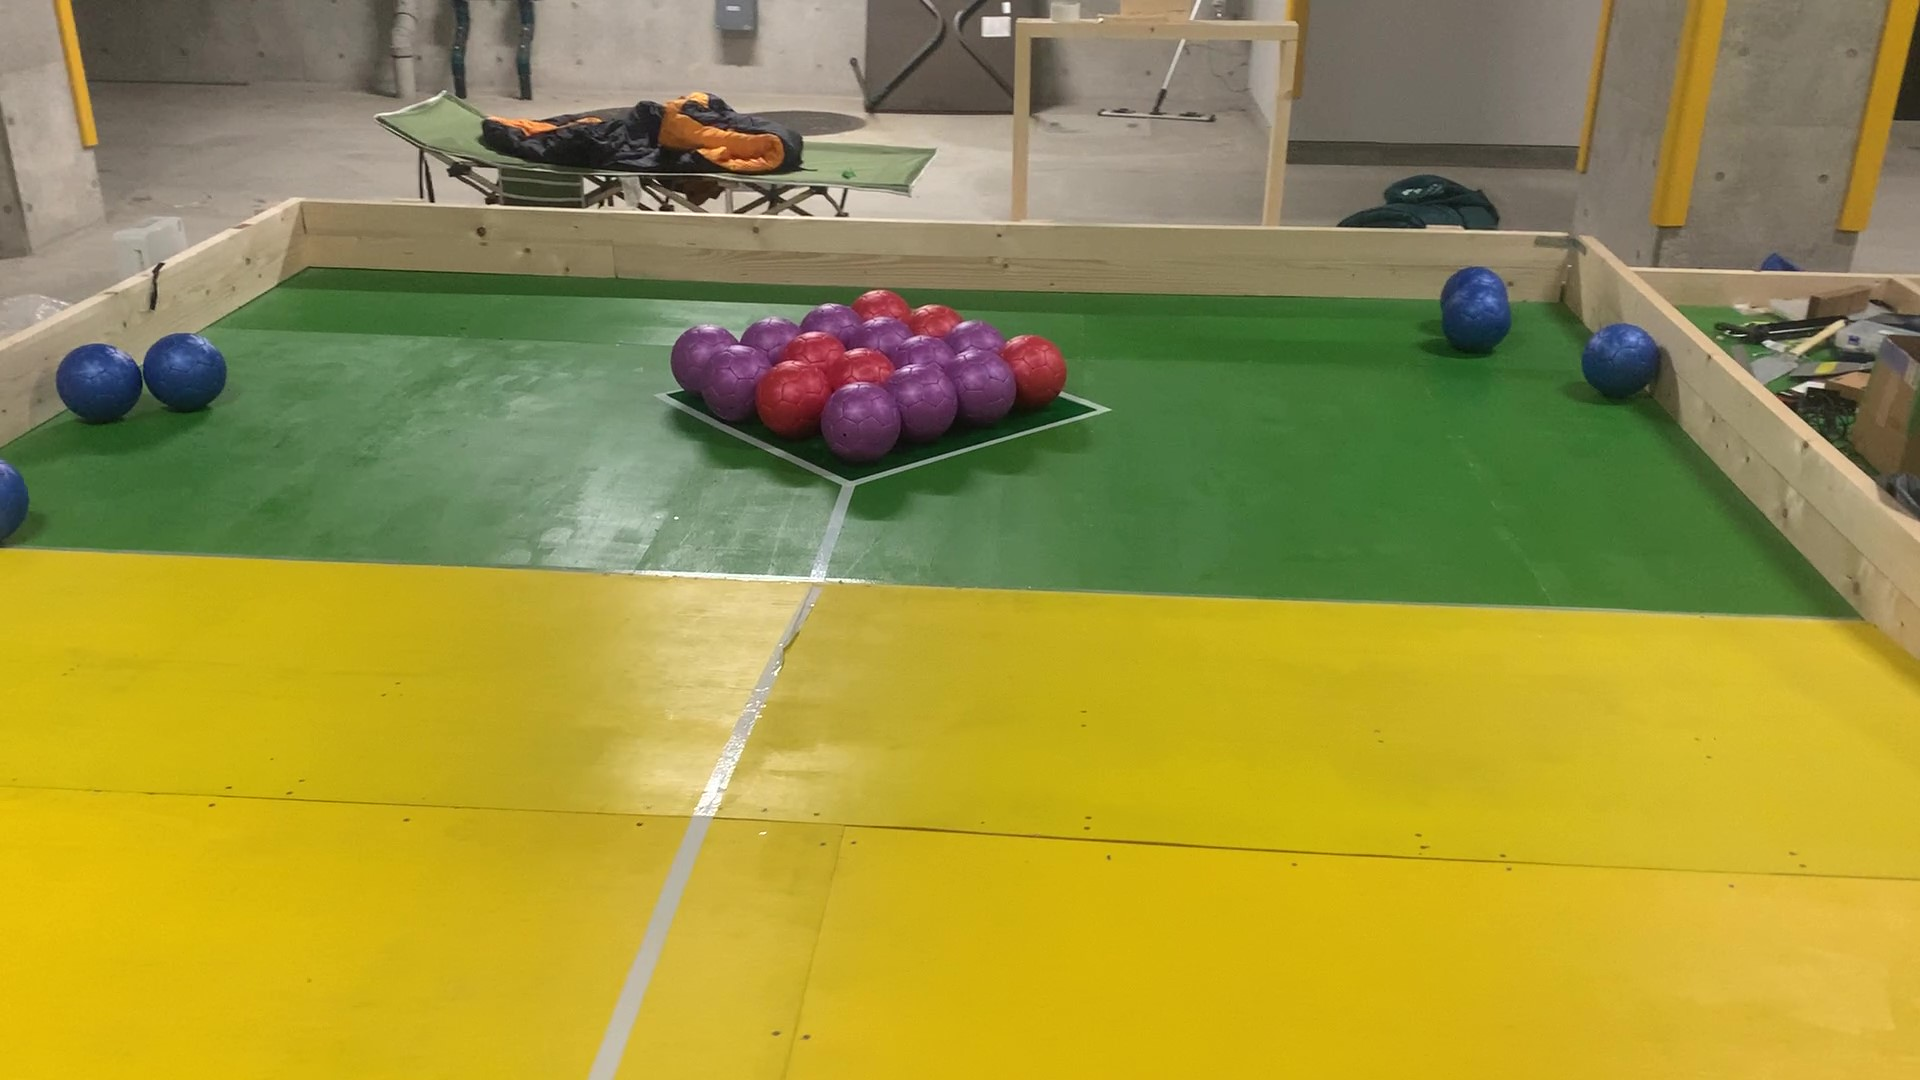blue: (62, 349, 135, 418), (1589, 326, 1659, 396), (154, 336, 225, 402), (1449, 294, 1506, 349), (0, 455, 28, 543), (1458, 262, 1505, 286)
purple: (840, 384, 886, 454), (956, 353, 1010, 411), (907, 367, 944, 436), (717, 349, 754, 417), (675, 323, 708, 384), (806, 303, 855, 328), (746, 316, 779, 347), (957, 324, 996, 349), (909, 336, 943, 363), (864, 324, 903, 344)
red: (762, 364, 822, 430), (1015, 336, 1065, 402), (778, 335, 847, 363), (860, 286, 909, 318), (916, 303, 957, 330), (848, 351, 884, 376)
